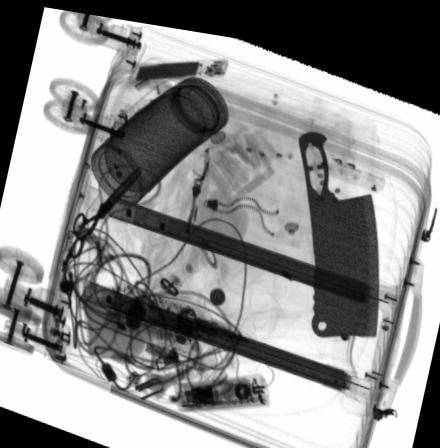Knife: (296, 118, 379, 325)
Powerbank: (133, 51, 229, 77)
Scissors: (59, 159, 142, 271)
